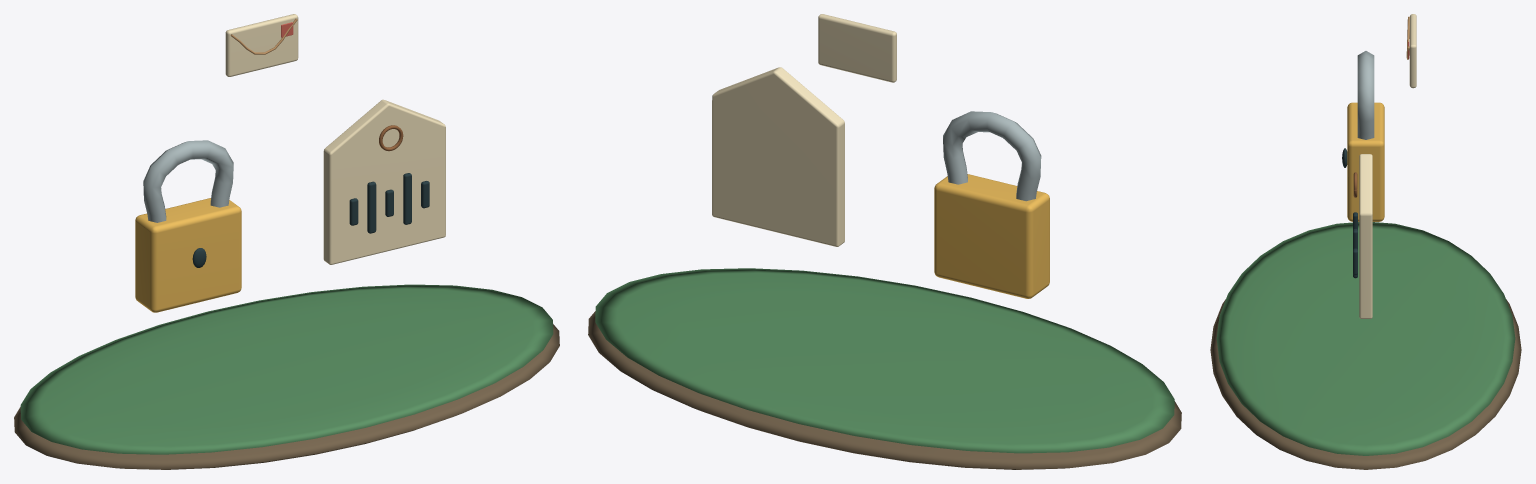
File: complete-third-secret-code.glb
3 renders of one model, left to right at view 1: azimuth 30°, elevation 25°; view 2: azimuth 150°, elevation 25°; view 3: azimuth 270°, elevation 25°, orthographic. The views are drawn at different scales.
Parts seen in each view (by area): view 1: complete-third-secret-code_surface_01, complete-third-secret-code_surface_05, complete-third-secret-code_surface_02, complete-third-secret-code_surface_00, complete-third-secret-code_surface_03, complete-third-secret-code_surface_04; view 2: complete-third-secret-code_surface_01, complete-third-secret-code_surface_05, complete-third-secret-code_surface_02, complete-third-secret-code_surface_00, complete-third-secret-code_surface_03; view 3: complete-third-secret-code_surface_01, complete-third-secret-code_surface_00, complete-third-secret-code_surface_02, complete-third-secret-code_surface_05, complete-third-secret-code_surface_03, complete-third-secret-code_surface_04.
Boxes of the visible parts, box(x1,y1,x2,y2) form: complete-third-secret-code_surface_01: box(20, 284, 553, 454); complete-third-secret-code_surface_05: box(225, 14, 445, 264); complete-third-secret-code_surface_02: box(135, 198, 241, 312); complete-third-secret-code_surface_00: box(14, 324, 559, 469); complete-third-secret-code_surface_03: box(143, 140, 233, 222); complete-third-secret-code_surface_04: box(192, 173, 429, 267); complete-third-secret-code_surface_01: box(595, 268, 1174, 453); complete-third-secret-code_surface_05: box(712, 14, 896, 246); complete-third-secret-code_surface_02: box(934, 174, 1049, 298); complete-third-secret-code_surface_00: box(588, 311, 1181, 469); complete-third-secret-code_surface_03: box(943, 111, 1041, 201); complete-third-secret-code_surface_01: box(1216, 222, 1515, 455); complete-third-secret-code_surface_00: box(1210, 299, 1521, 469); complete-third-secret-code_surface_02: box(1347, 102, 1384, 221); complete-third-secret-code_surface_05: box(1359, 14, 1416, 318); complete-third-secret-code_surface_03: box(1357, 51, 1374, 139); complete-third-secret-code_surface_04: box(1342, 148, 1357, 278).
Size of the model in its own units: 4.56 by 2.97 by 2.5.
